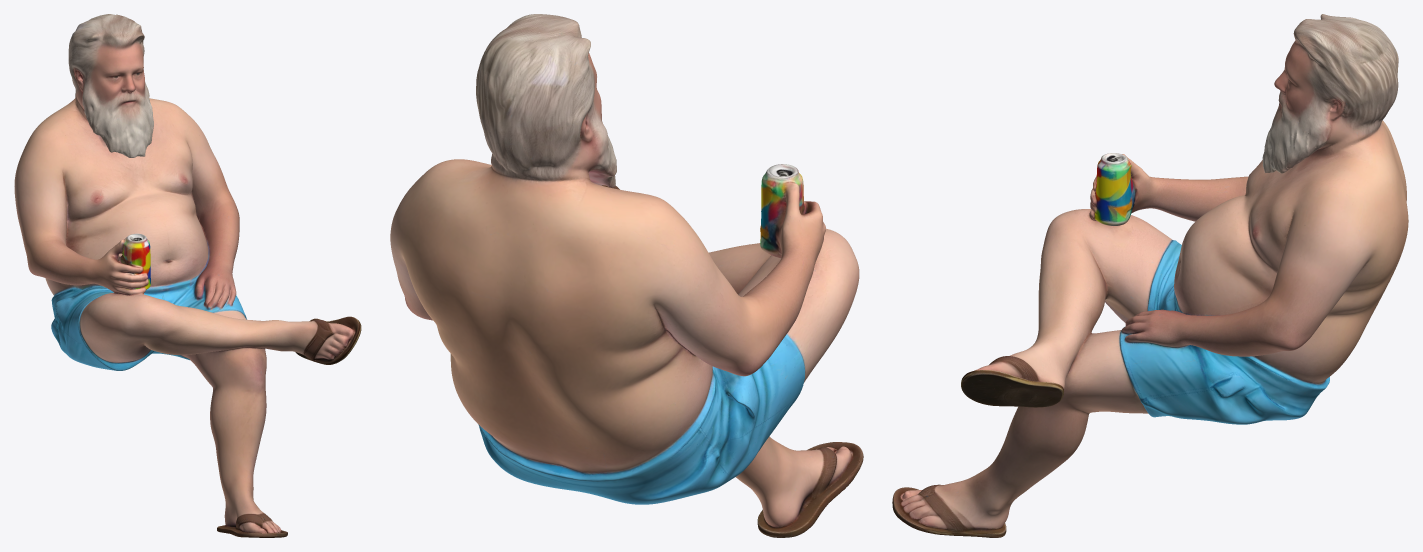
The picture shows the model from 3 angles, left to right: view 1: azimuth 30°, elevation 25°; view 2: azimuth 150°, elevation 25°; view 3: azimuth 270°, elevation 25°; orthographic projection. The views are drawn at different scales.
Visible parts, largest first — view 1: Object_5, Object_6, Object_7; view 2: Object_6, Object_5, Object_7; view 3: Object_6, Object_5, Object_7.
Boxes of the visible parts, <box> form: Object_5: <box>16,21,361,537</box>; Object_6: <box>14,14,246,370</box>; Object_7: <box>82,233,328,497</box>; Object_6: <box>390,15,839,495</box>; Object_5: <box>400,14,863,537</box>; Object_7: <box>709,164,859,499</box>; Object_6: <box>1105,14,1408,424</box>; Object_5: <box>892,14,1354,537</box>; Object_7: <box>997,153,1173,506</box>.
Size of the model in its own units: 1.07 by 1.9 by 1.72.
Materials: 1 (1 with a texture image).
